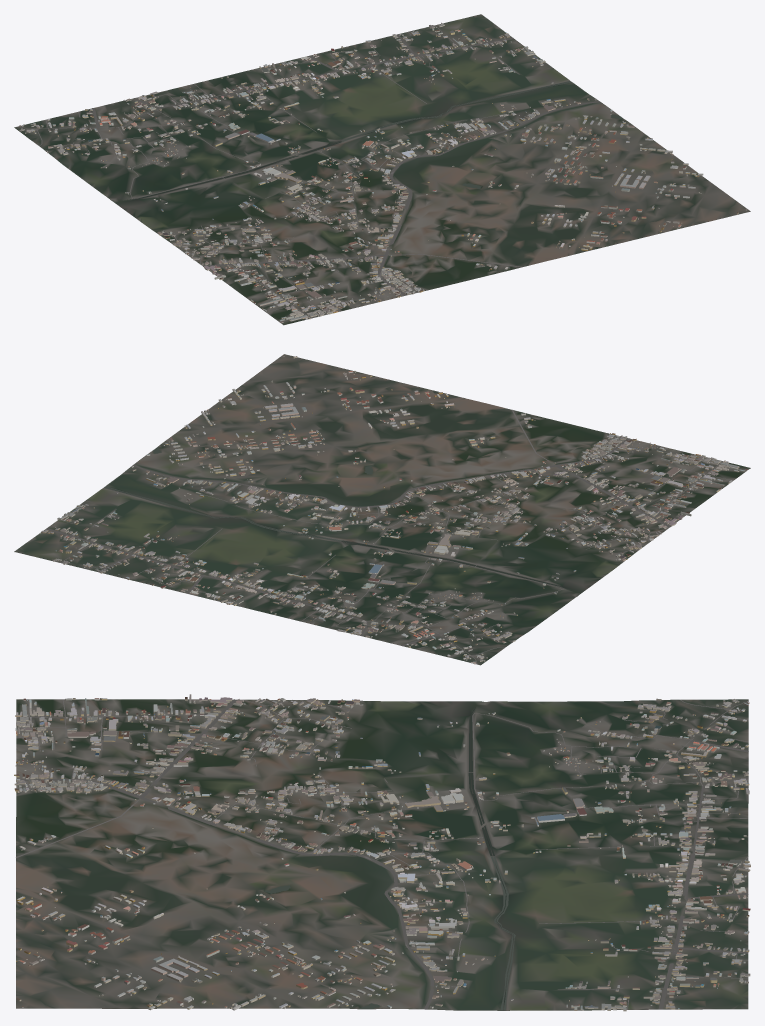
3 views of the same model, one above another, from view 1: azimuth 30°, elevation 25°; view 2: azimuth 150°, elevation 25°; view 3: azimuth 270°, elevation 25° (orthographic). The views are drawn at different scales.
Parts seen in each view (by area): view 1: ground, buildings, roads, water; view 2: ground, buildings, roads, water; view 3: ground, buildings, roads, water.
Part boxes in pixels (x1,y1,x2,y2): ground: [14, 14, 750, 325]; buildings: [19, 22, 746, 323]; roads: [18, 25, 627, 321]; water: [121, 81, 623, 200]; ground: [14, 354, 750, 665]; buildings: [39, 355, 748, 664]; roads: [46, 409, 745, 664]; water: [104, 447, 573, 591]; ground: [16, 699, 748, 1010]; buildings: [14, 694, 750, 1011]; roads: [16, 699, 748, 1009]; water: [265, 706, 515, 1010].
Size of the model in its own units: 2842 by 23.94 by 2819.
